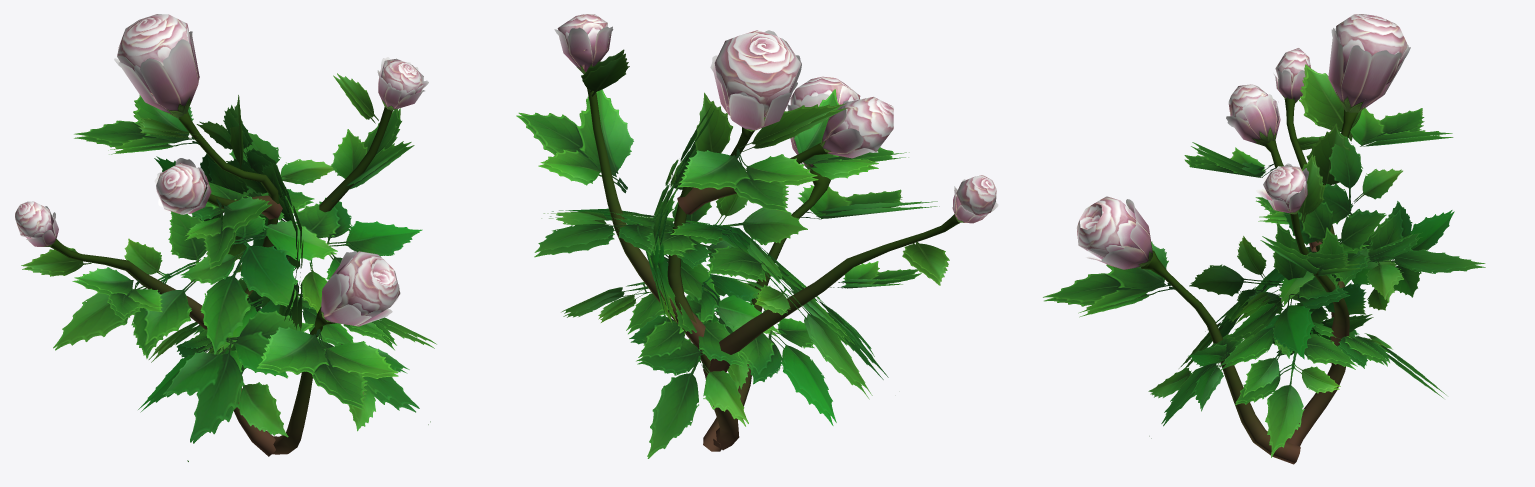
File: SE_Rose_06.fbx
3 renders of one model, left to right at view 1: azimuth 30°, elevation 25°; view 2: azimuth 150°, elevation 25°; view 3: azimuth 270°, elevation 25°, orthographic. The views are drawn at different scales.
Visible parts, largest first — view 1: SE_Rose_06; view 2: SE_Rose_06; view 3: SE_Rose_06.
Boxes of the visible parts, x1,y1,x2,y2 form: SE_Rose_06: [15, 14, 436, 461]; SE_Rose_06: [516, 14, 998, 458]; SE_Rose_06: [1043, 14, 1485, 464].
Size of the model in its own units: 2.92 by 2.74 by 2.99.
